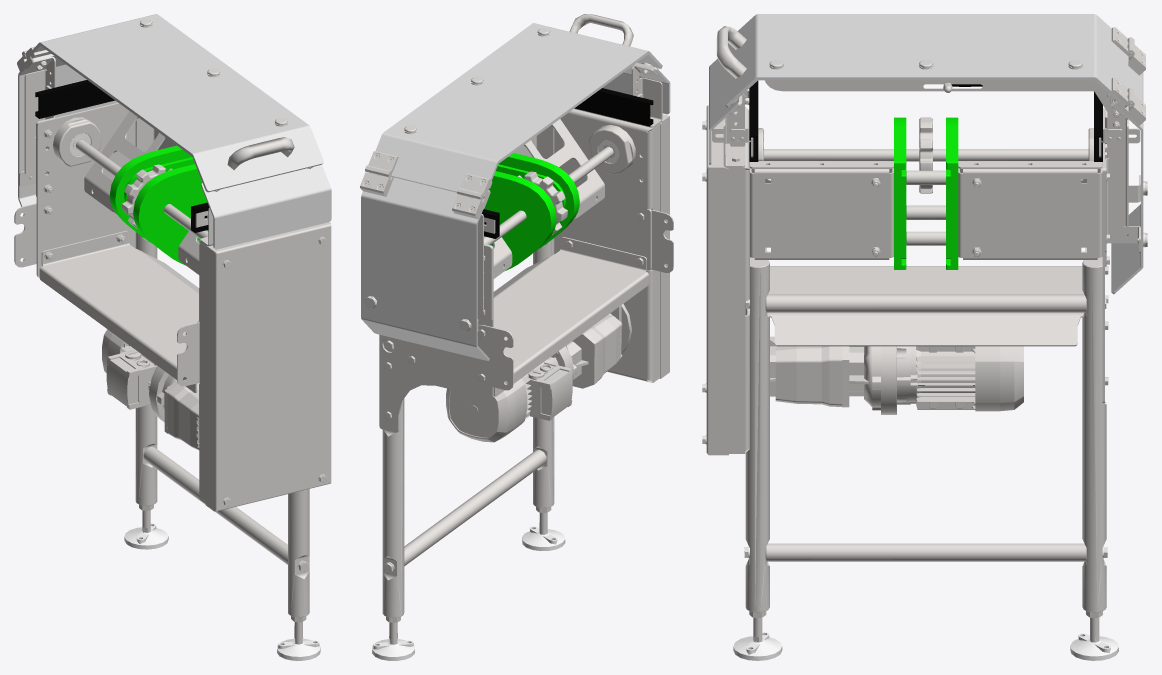
3 renders of one model, left to right at view 1: azimuth 30°, elevation 25°; view 2: azimuth 150°, elevation 25°; view 3: azimuth 270°, elevation 25°, orthographic. The views are drawn at different scales.
Parts seen in each view (by area): view 1: base, glass; view 2: base, glass; view 3: base, glass.
Part boxes in pixels (x1,y1,x2,y2): base: (14, 19, 331, 660); glass: (18, 14, 331, 249); base: (360, 14, 673, 660); glass: (361, 23, 670, 361); base: (702, 26, 1147, 660); glass: (709, 14, 1143, 294).
Size of the model in its own units: 0.307 by 1.06 by 0.7299.
Materials: 1 (1 with a texture image).
